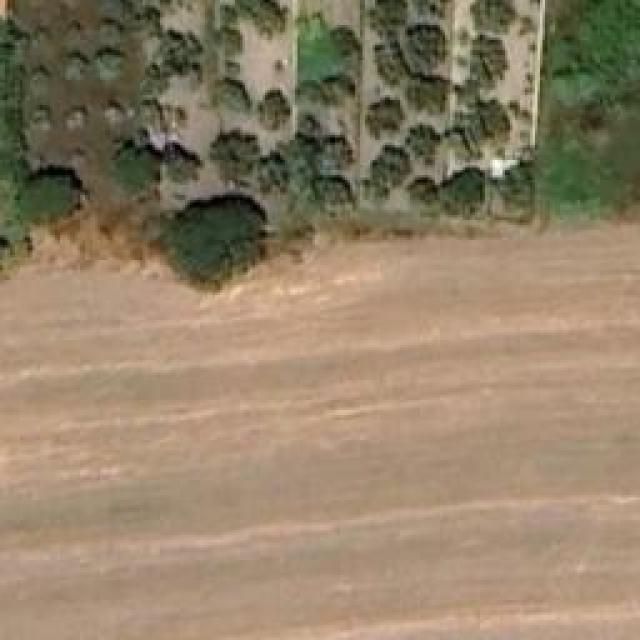Tree: (163, 198, 268, 291), (18, 165, 83, 218), (210, 130, 264, 187), (260, 138, 313, 190), (492, 157, 538, 215), (113, 138, 163, 191), (438, 168, 483, 218), (402, 73, 450, 116), (365, 148, 403, 198), (405, 25, 445, 68), (165, 143, 204, 187), (470, 35, 503, 83), (310, 175, 350, 213), (315, 135, 352, 174), (210, 80, 250, 115), (368, 97, 403, 135), (295, 75, 329, 110), (472, 0, 510, 28), (369, 0, 402, 32), (323, 72, 353, 106), (408, 128, 438, 161), (330, 20, 360, 53), (23, 105, 56, 135), (25, 70, 53, 98), (93, 50, 118, 80), (100, 100, 125, 130), (260, 95, 280, 128), (295, 110, 319, 137), (65, 55, 90, 80), (60, 105, 85, 130), (100, 20, 120, 43)
